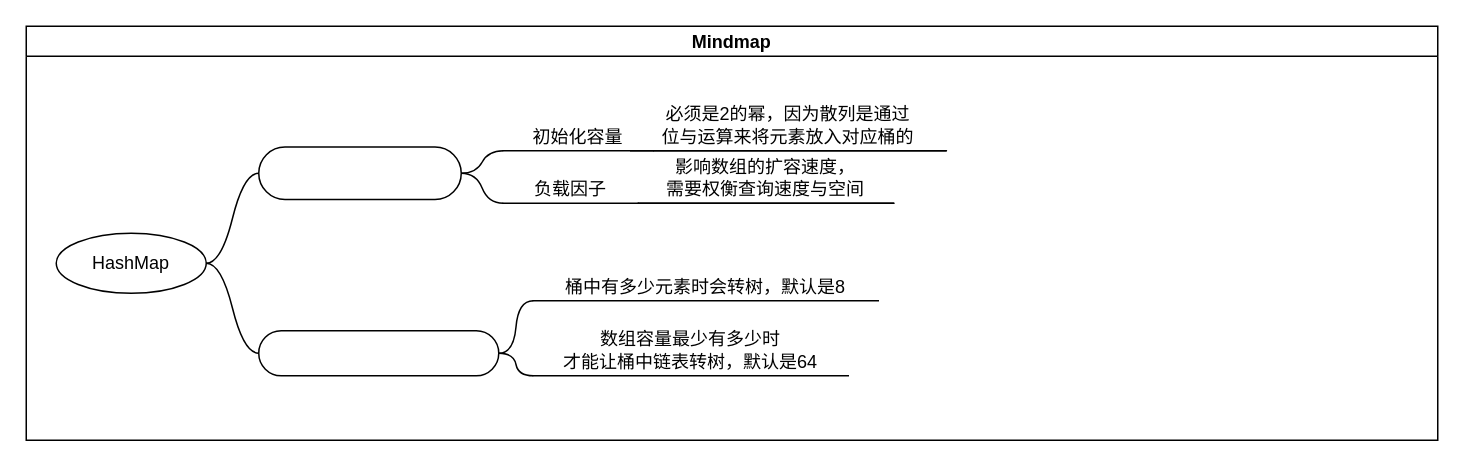
This 1464x467 diagram has some shape labels left out. The shapes that lost their labels are listed below. From the top down, each one's box as (x1, y1, x2, y2) in pixels, then its label:
(257, 146, 461, 200): 影响性能的参数
(257, 329, 499, 376): 桶是否转红黑树的阈值
